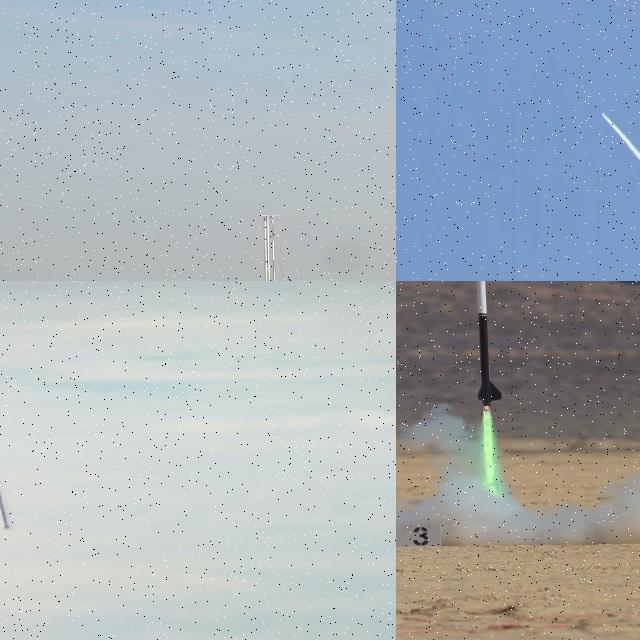Rocket: (472, 281, 504, 409), (0, 478, 10, 528), (600, 110, 603, 115)
